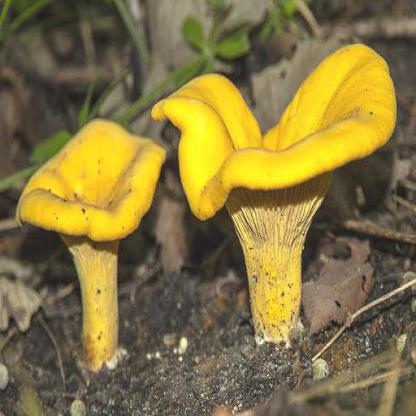chanterelle: (151, 43, 396, 346), (15, 118, 166, 371)
